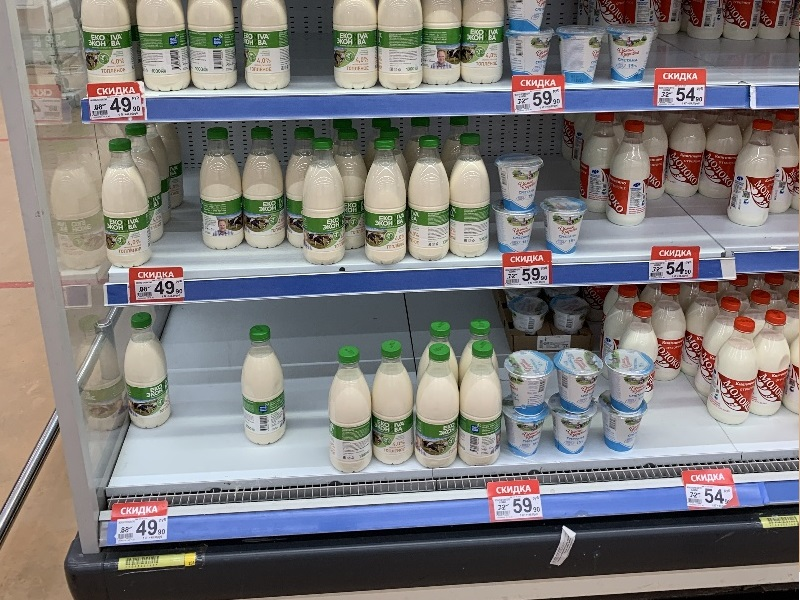milk: (231, 318, 296, 450), (316, 345, 379, 480), (117, 306, 181, 434), (97, 134, 155, 275), (295, 137, 353, 272), (451, 339, 507, 472), (236, 126, 294, 254), (358, 138, 411, 275), (409, 340, 463, 474), (405, 130, 455, 267), (366, 340, 418, 471), (724, 119, 783, 230), (197, 126, 246, 251), (448, 131, 494, 263), (710, 316, 765, 426), (748, 309, 792, 419), (608, 118, 651, 229)
